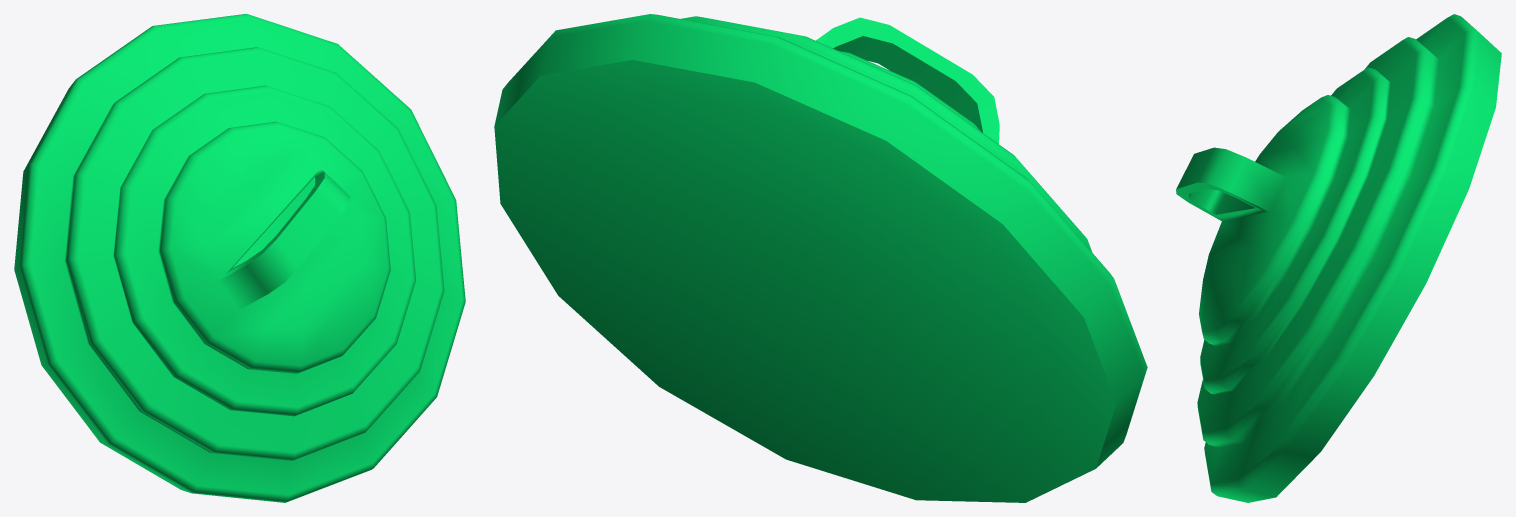
File: SM_TrashLid.fbx
3 views of the same model, side by side, from view 1: azimuth 30°, elevation 25°; view 2: azimuth 150°, elevation 25°; view 3: azimuth 270°, elevation 25° (orthographic). The views are drawn at different scales.
Visible parts, largest first — view 1: SM_TrashLid; view 2: SM_TrashLid; view 3: SM_TrashLid.
Part boxes in pixels (bbox=[...]): SM_TrashLid: bbox=[14, 14, 465, 502]; SM_TrashLid: bbox=[494, 14, 1147, 502]; SM_TrashLid: bbox=[1176, 14, 1501, 502].
Size of the model in its own units: 57.23 by 51.33 by 35.1.
